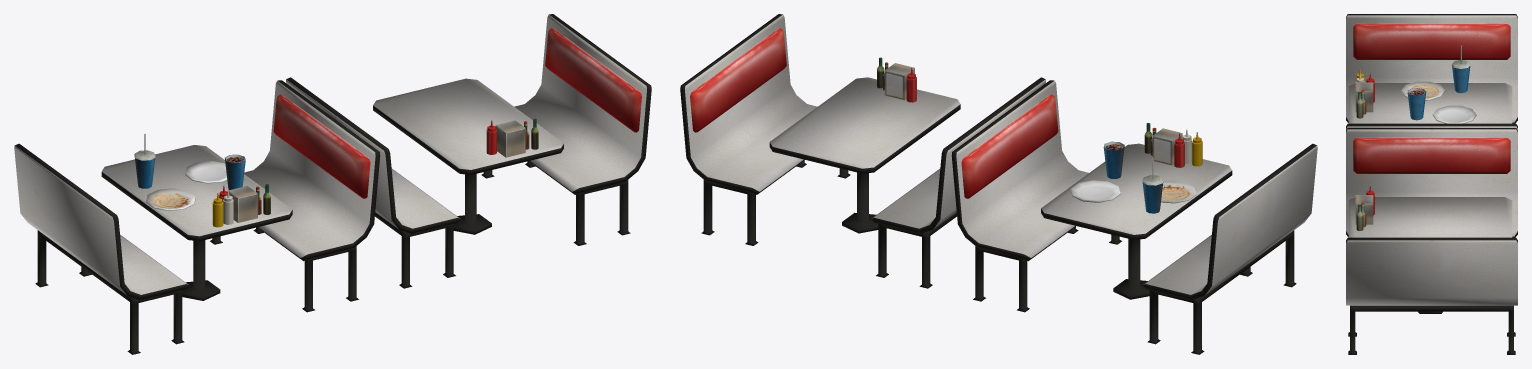
The model's file is left_apparel.glb.
The picture shows the model from 3 angles, left to right: view 1: azimuth 30°, elevation 25°; view 2: azimuth 150°, elevation 25°; view 3: azimuth 270°, elevation 25°; orthographic projection. The views are drawn at different scales.
Parts seen in each view (by area): view 1: Chair_Table.002, Chair_Table.004, Chair_Table.007, Chair_Table.003, Chair_Table.005, Chair_Table.006, napkinring.002, Dish.002, napkinring.001, Dish.003, vessel_Soda.007, vessel_Soda.006; view 2: Chair_Table.002, Chair_Table.004, Chair_Table.007, Chair_Table.003, Chair_Table.005, Chair_Table.006, Dish.003, napkinring.002, napkinring.001, vessel_Soda.007, Dish.002, vessel_Soda.006; view 3: Chair_Table.002, Chair_Table.006, Chair_Table.007, Chair_Table.003, Chair_Table.005, Chair_Table.004, Dish.003, vessel_Soda.007, vessel_Soda.006, Dish.002, napkinring.001, napkinring.002 (+2 smaller).
Part boxes in pixels (left/top/right/bottom): Chair_Table.002: left=481, top=14, right=651, bottom=245; Chair_Table.004: left=210, top=80, right=380, bottom=312; Chair_Table.007: left=14, top=143, right=189, bottom=354; Chair_Table.003: left=373, top=78, right=563, bottom=234; Chair_Table.005: left=101, top=145, right=292, bottom=300; Chair_Table.006: left=286, top=77, right=460, bottom=288; napkinring.002: left=495, top=120, right=525, bottom=157; Dish.002: left=145, top=188, right=195, bottom=210; napkinring.001: left=229, top=186, right=257, bottom=222; Dish.003: left=185, top=161, right=227, bottom=183; vessel_Soda.007: left=134, top=133, right=155, bottom=188; vessel_Soda.006: left=225, top=154, right=245, bottom=190; Chair_Table.002: left=680, top=14, right=850, bottom=245; Chair_Table.004: left=951, top=80, right=1121, bottom=312; Chair_Table.007: left=1142, top=143, right=1317, bottom=354; Chair_Table.003: left=769, top=77, right=960, bottom=233; Chair_Table.005: left=1041, top=143, right=1232, bottom=299; Chair_Table.006: left=871, top=77, right=1045, bottom=288; Dish.003: left=1070, top=180, right=1120, bottom=202; napkinring.002: left=884, top=63, right=914, bottom=100; napkinring.001: left=1152, top=128, right=1182, bottom=165; vessel_Soda.007: left=1142, top=158, right=1163, bottom=213; Dish.002: left=1161, top=181, right=1196, bottom=203; vessel_Soda.006: left=1103, top=141, right=1124, bottom=178; Chair_Table.002: left=1346, top=237, right=1517, bottom=354; Chair_Table.006: left=1346, top=128, right=1517, bottom=237; Chair_Table.007: left=1346, top=14, right=1517, bottom=123; Chair_Table.003: left=1348, top=197, right=1512, bottom=313; Chair_Table.005: left=1348, top=83, right=1512, bottom=123; Chair_Table.004: left=1346, top=123, right=1517, bottom=130; Dish.003: left=1432, top=105, right=1476, bottom=123; vessel_Soda.007: left=1452, top=45, right=1470, bottom=93; vessel_Soda.006: left=1407, top=88, right=1426, bottom=120; Dish.002: left=1401, top=81, right=1445, bottom=100; napkinring.001: left=1355, top=82, right=1373, bottom=112; napkinring.002: left=1355, top=195, right=1373, bottom=224.
Bounding box in the file's own units: 4.61 × 1.26 × 1.48.
6 materials, 6 textured.
